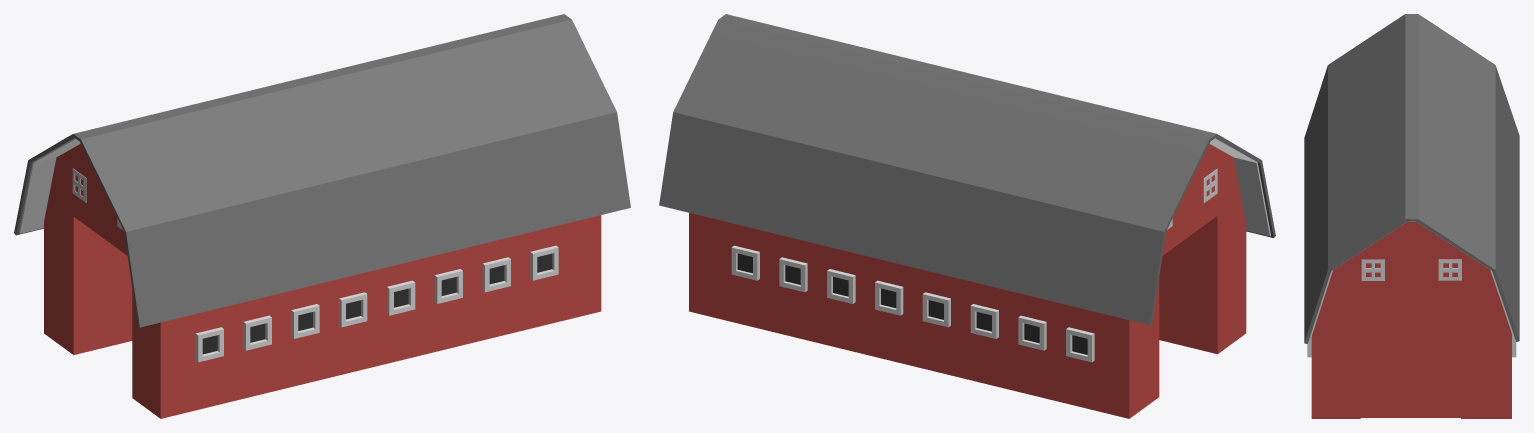
Rendered from Barn_House.glb.
3 views of the same model, side by side, from view 1: azimuth 30°, elevation 25°; view 2: azimuth 150°, elevation 25°; view 3: azimuth 270°, elevation 25° (orthographic). The views are drawn at different scales.
Visible parts, largest first — view 1: Cube; view 2: Cube; view 3: Cube.
Part boxes in pixels (bbox=[...]): Cube: bbox=[14, 14, 630, 418]; Cube: bbox=[659, 14, 1275, 418]; Cube: bbox=[1304, 14, 1519, 418].
Size of the model in its own units: 25.41 by 12.15 by 11.28.
